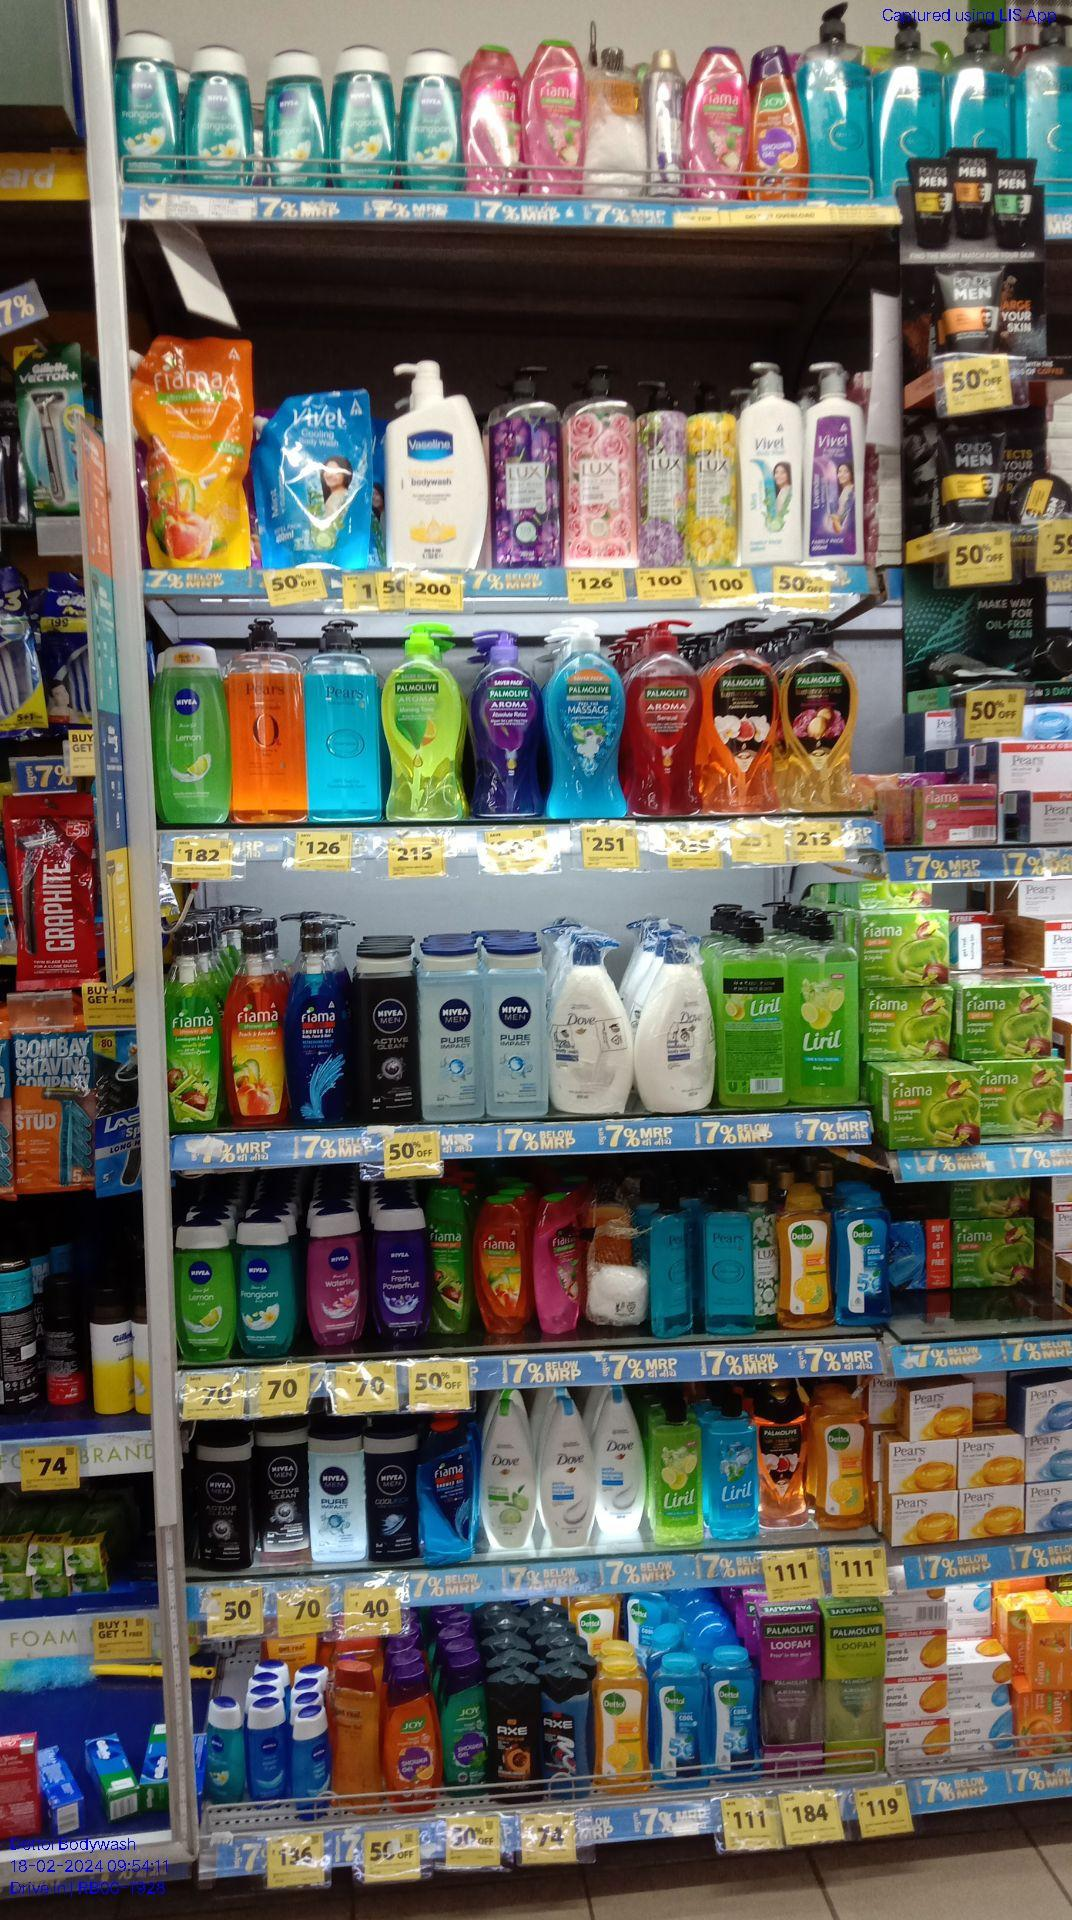Dettol_Bodywash_Cool: (833, 1187, 893, 1327), (655, 1646, 709, 1788), (709, 1648, 759, 1782)
Dettol_Bodywash_Refresh: (595, 1651, 653, 1797), (775, 1180, 832, 1328), (815, 1391, 870, 1524)
Dove_Gentle_Exfoliating_Body_Wash_250ML: (541, 1398, 592, 1548), (597, 1394, 647, 1532)
Dove_Refreshing_Body_Wash_250ML: (481, 1395, 535, 1548)
Fiama_Shower_Gel_Patchouli_and_Macadamia_250ML: (686, 46, 744, 202), (529, 40, 583, 194), (467, 44, 522, 194), (535, 1193, 581, 1329)
Fiama_Shower_Gel_Peach_and_Avocado_250ML: (472, 1193, 535, 1333)
Get_Real_Shower_Gel_Moisturising_Glycerin_300ML: (335, 1660, 385, 1813)
Joy_Shower_Gel_Mandarin_and_Lemongrass_250ML: (749, 41, 807, 202), (388, 1669, 442, 1812)
Joy_Shower_Gel_Mint_and_Eucalyptus_250ML: (443, 1647, 488, 1796)
Liril_Cooling_Mint_Body_Wash_250ML: (705, 1400, 757, 1540)
Liril_Lime_and_Tea_Tree_Oil_Body_Wash_250ML: (653, 1406, 703, 1545)
Nivea_Shower_Gel_Frangipani_and_Oil_250ML: (115, 21, 182, 185), (186, 44, 257, 190), (400, 45, 464, 193), (265, 50, 330, 189), (334, 44, 394, 190), (236, 1211, 295, 1358)
Nivea_Shower_Gel_Fresh_Powerfruit_250ML: (372, 1204, 426, 1341)
Nivea_Shower_Gel_Lemon_and_Oil_250ML: (156, 640, 228, 827), (170, 1220, 235, 1364)
Nivea_Shower_Gel_Waterlily_and_Oil_250ML: (307, 1204, 365, 1342)
Palmolive_Luminous_Oils_With_White_Orchid_Shower_Gel_250ML: (759, 1386, 810, 1531)
Pears_Pure_Glycerin_and_Mint_Extracts_Body_Wash_250ML: (700, 1189, 756, 1336), (649, 1193, 692, 1333)
